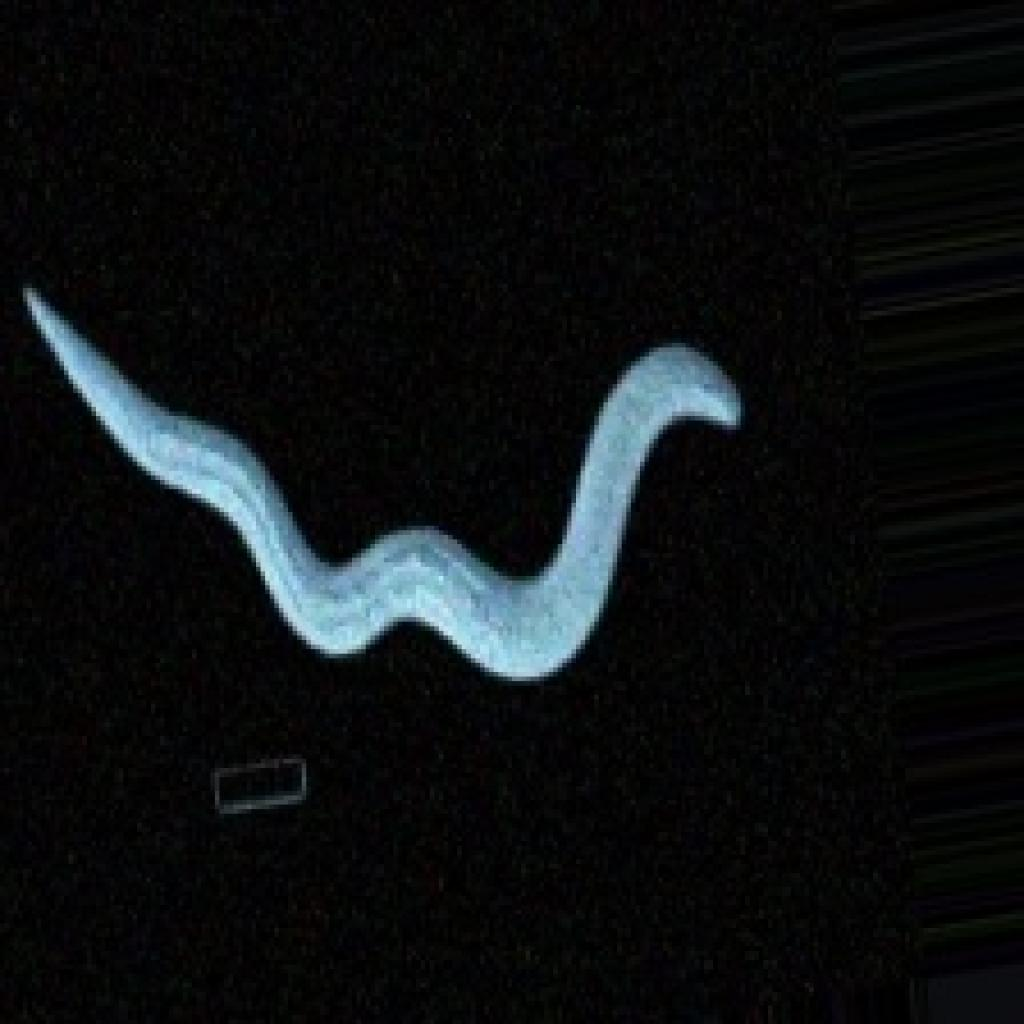Nematode: (14, 274, 745, 686)
